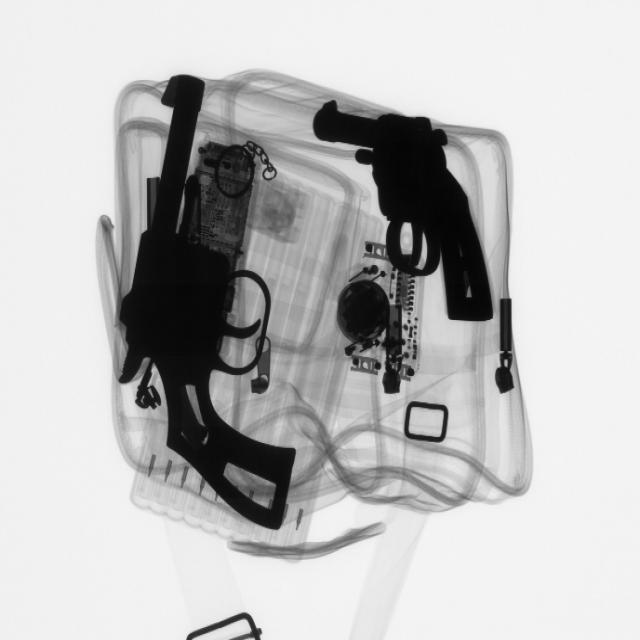GUN: (108, 77, 291, 540), (319, 97, 501, 338)
